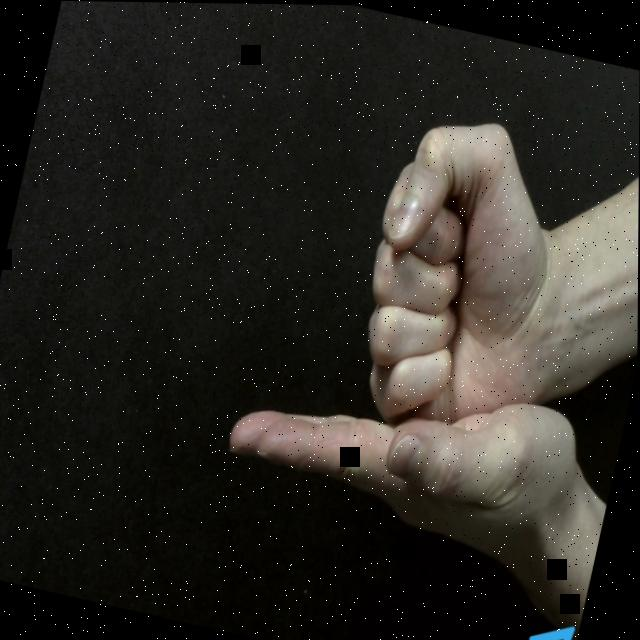Rock: (341, 104, 580, 445)
